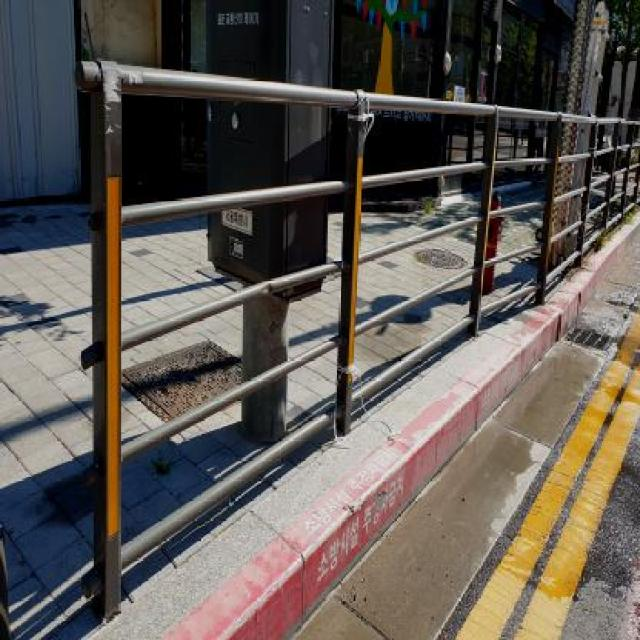fence: (78, 25, 380, 497)
